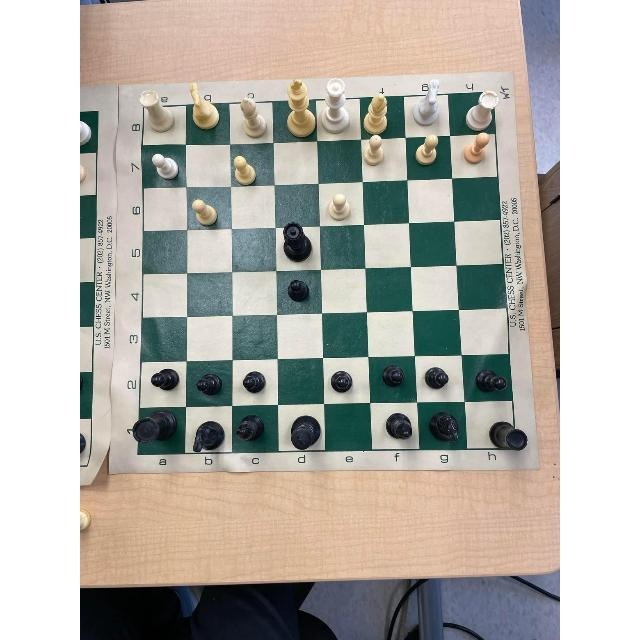black-bishop: (233, 413, 269, 445), (382, 410, 414, 445)
black-king: (288, 411, 322, 451)
black-knight: (191, 420, 229, 456), (428, 409, 462, 445)
black-pawn: (150, 364, 180, 398), (474, 368, 508, 397), (194, 370, 223, 400), (240, 369, 267, 397), (422, 365, 450, 392), (284, 278, 311, 304), (329, 368, 353, 395), (382, 363, 406, 389)
black-queen: (279, 220, 315, 266)
black-rook: (130, 407, 179, 448), (487, 419, 531, 457)
white-bishop: (234, 94, 271, 139), (361, 92, 390, 136)
white-king: (284, 79, 316, 139)
white-knight: (186, 79, 220, 137), (409, 76, 442, 130)
white-pawn: (149, 152, 181, 185), (230, 151, 257, 189), (463, 131, 491, 167), (414, 132, 441, 168), (191, 198, 221, 230), (361, 132, 386, 170), (327, 191, 351, 223)
white-queen: (320, 79, 349, 135)
white-rook: (136, 86, 178, 135), (463, 88, 499, 133)
